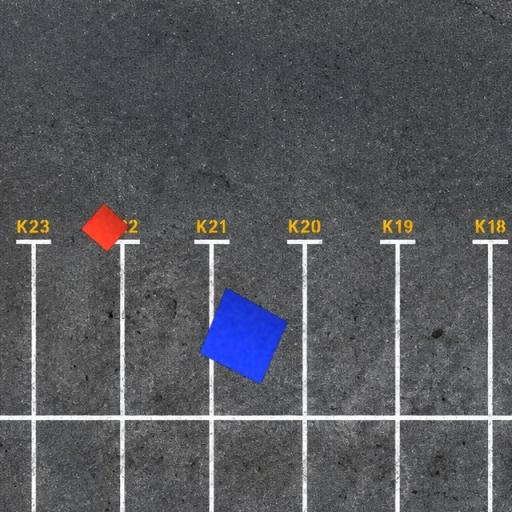BLUE_SQUARE: (199, 286, 289, 386)
RED_SQUARE: (80, 202, 130, 253)
